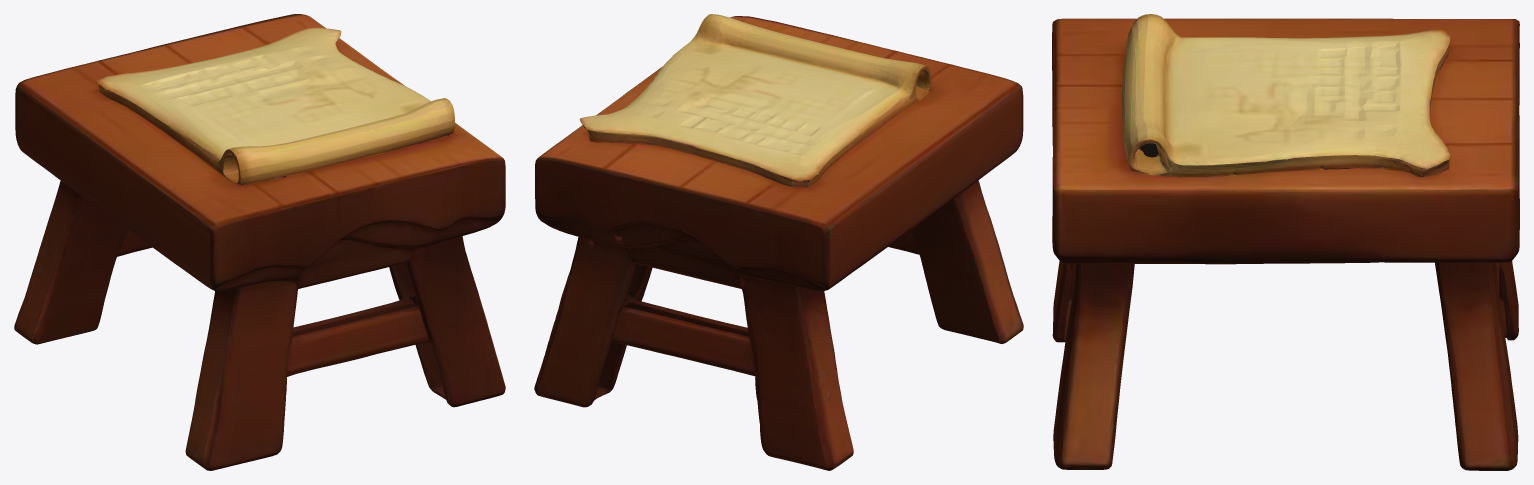
The model's file is drafting_table.glb.
3 renders of one model, left to right at view 1: azimuth 30°, elevation 25°; view 2: azimuth 150°, elevation 25°; view 3: azimuth 270°, elevation 25°, orthographic. The views are drawn at different scales.
Visible parts, largest first — view 1: world; view 2: world; view 3: world.
Boxes of the visible parts, <box> form: world: <box>14,14,505,470</box>; world: <box>534,14,1023,470</box>; world: <box>1052,14,1519,470</box>.
Size of the model in its own units: 0.8812 by 0.7732 by 0.9994.
1 material, 1 textured.
